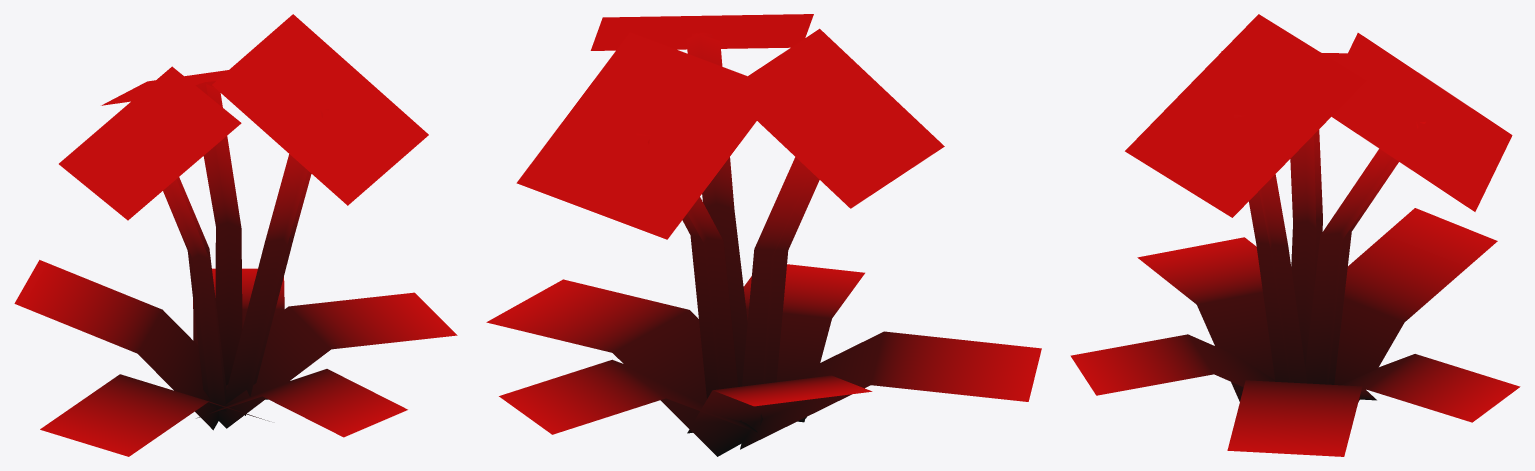
The model's file is SM_Flower_07.fbx.
The picture shows the model from 3 angles, left to right: view 1: azimuth 30°, elevation 25°; view 2: azimuth 150°, elevation 25°; view 3: azimuth 270°, elevation 25°; orthographic projection. The views are drawn at different scales.
Parts seen in each view (by area): view 1: SM_Nature_Flower_07; view 2: SM_Nature_Flower_07; view 3: SM_Nature_Flower_07.
Part boxes in pixels (x1=…): SM_Nature_Flower_07: x1=14, y1=14, x2=457, y2=456; SM_Nature_Flower_07: x1=486, y1=14, x2=1041, y2=456; SM_Nature_Flower_07: x1=1070, y1=14, x2=1520, y2=456.
Bounding box in the file's own units: 26.7 × 21.3 × 23.12.
